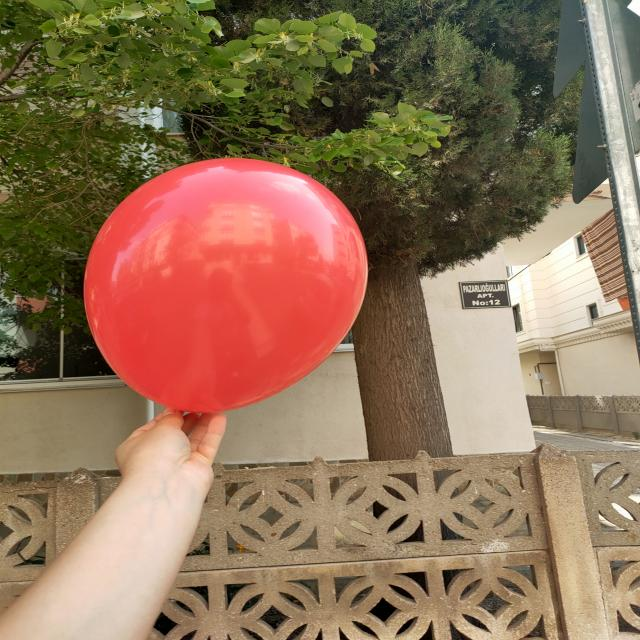red: (82, 159, 368, 416)
